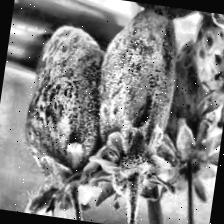Gray Mold: (79, 4, 201, 224), (12, 22, 127, 224)
